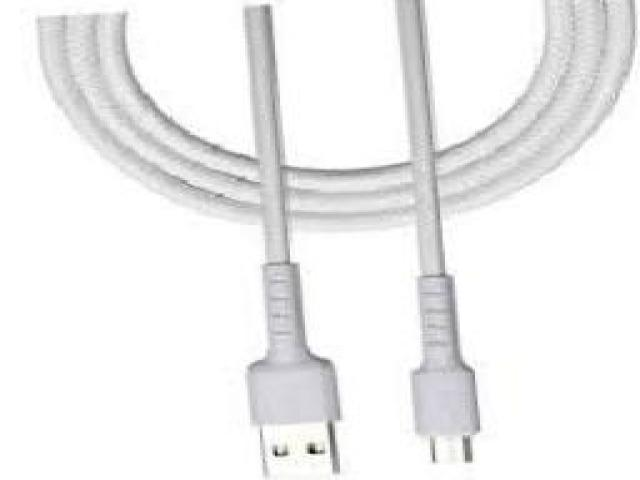wire: (39, 0, 631, 480)
